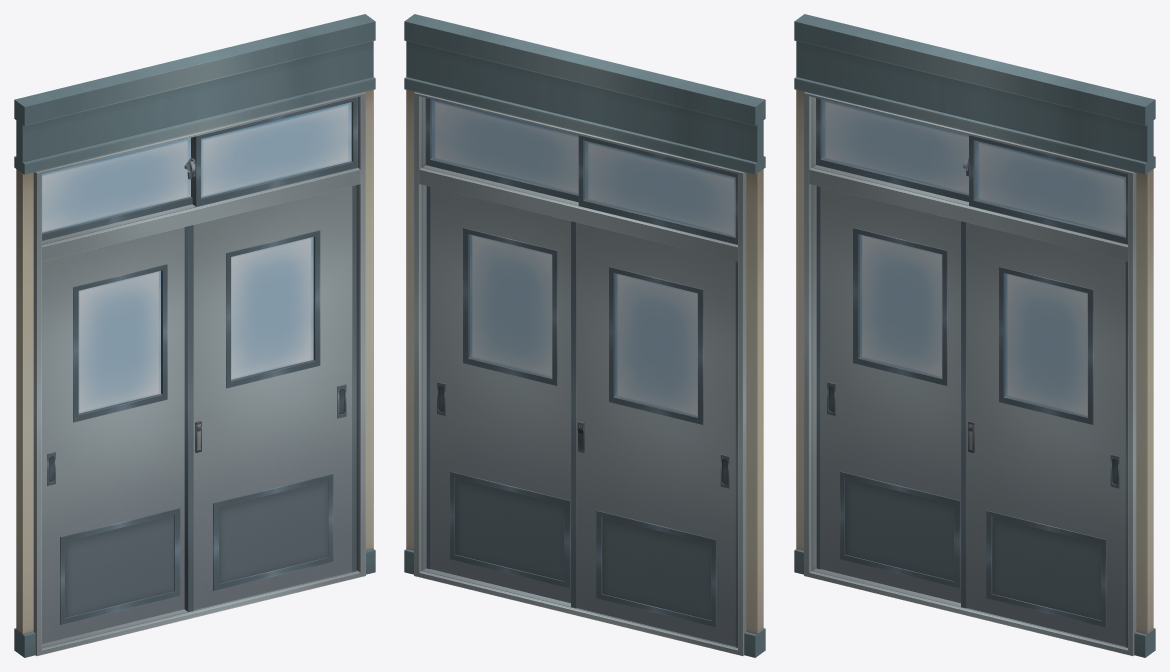
The model's file is Door_01_01.fbx.
The picture shows the model from 3 angles, left to right: view 1: azimuth 30°, elevation 25°; view 2: azimuth 150°, elevation 25°; view 3: azimuth 330°, elevation 25°; orthographic projection.
Parts seen in each view (by area): view 1: door01_R, door01_L, wall_01, glass_01 (×4), door_01, window01_02, window01_01; view 2: door01_L, door01_R, wall_01, glass_02 (×4), door_01, window01_01, window01_02; view 3: door01_R, door01_L, wall_01, glass_01 (×4), door_01, window01_02, window01_01.
Part boxes in pixels (x1,y1,x2,y2): door01_R: (184,185,356,611); door01_L: (42,227,184,643); wall_01: (14,14,375,657); glass_01 (×4): (42,102,351,413); door_01: (33,92,365,655); window01_02: (191,97,357,206); window01_01: (42,137,192,240); door01_L: (571,221,737,647); door01_R: (426,186,570,603); wall_01: (404,14,765,657); glass_02 (×4): (432,99,735,416); door_01: (414,92,746,655); window01_01: (578,135,737,244); window01_02: (425,98,578,202); door01_R: (961,221,1127,647); door01_L: (816,186,960,603); wall_01: (794,14,1155,657); glass_01 (×4): (822,99,1125,416); door_01: (804,92,1136,655); window01_02: (967,135,1127,244); window01_01: (816,98,968,201).
Bounding box in the file's own units: 200 × 300 × 12.59.
